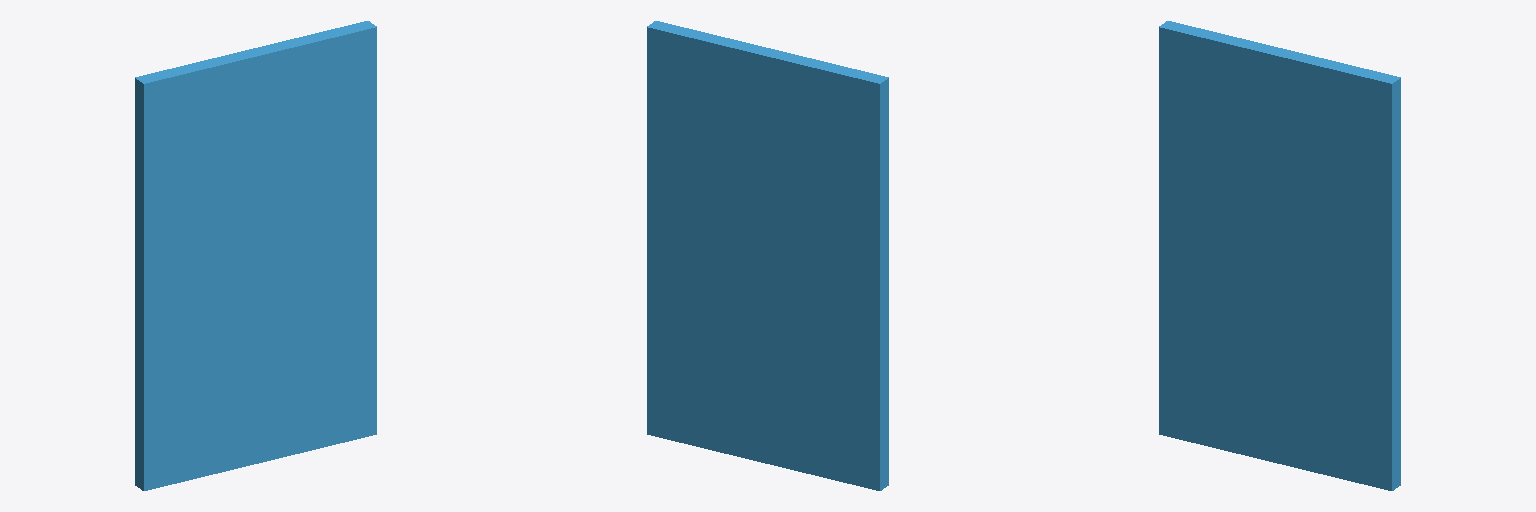
URDF robot description (hinged_panel):
<?xml version="1.0"?>
<!-- Teaching model: geometry is saved in the parent frame, in meters.
     Collision and inertia are intentionally omitted. -->
<robot name="hinged_panel">
  <link name="base" />
  <link name="door">
    <visual>
      <origin xyz="-1 0 0" rpy="0 0 0" />
      <geometry>
        <mesh filename="door-parent-frame.obj" />
      </geometry>
    </visual>
  </link>
  <joint name="door_hinge" type="revolute">
    <parent link="base" />
    <child link="door" />
    <origin xyz="1 0 0" rpy="0 0 0" />
    <axis xyz="0 0 1" />
    <limit lower="0" upper="1.570796" effort="10" velocity="1" />
  </joint>
</robot>

--- Facts derived from the render (not from the file) ---
3 views of the same robot in one strip: view 1: azimuth 30°, elevation 25°; view 2: azimuth 150°, elevation 25°; view 3: azimuth 330°, elevation 25° (orthographic).
Model hinged_panel with 2 links and 1 joints (1 revolute), rooted at base, posed all joints at 0.
Visible links, largest first — view 1: door; view 2: door; view 3: door.
Boxes of the visible links, x1,y1,x2,y2 form: door: [135, 21, 376, 490]; door: [647, 21, 888, 490]; door: [1159, 21, 1400, 490].
Bounding box of the posed robot: 0.6 × 0.04 × 1 m (x, y, z).
1 mesh visuals loaded from 1 distinct referenced files (1 OBJ).
